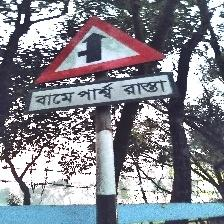Side-road-left: (26, 14, 176, 116)
